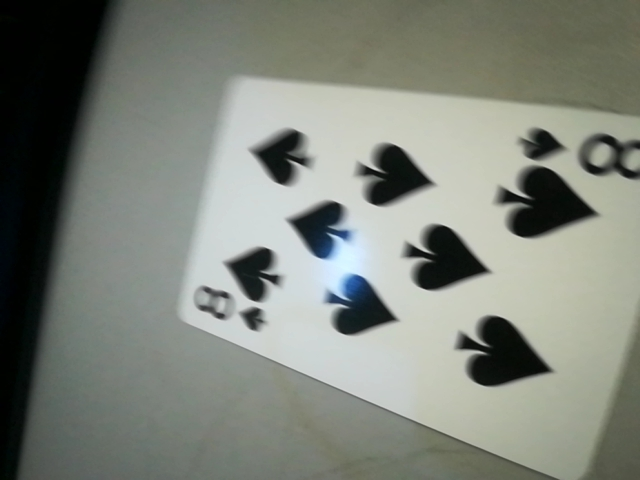ht 8: (520, 122, 640, 192)
